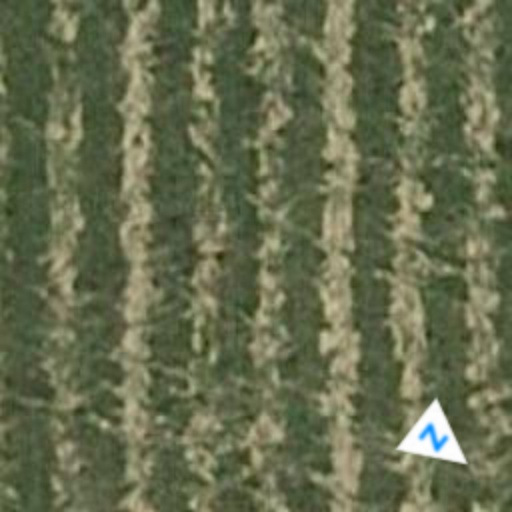triangle: (394, 396, 490, 492)
